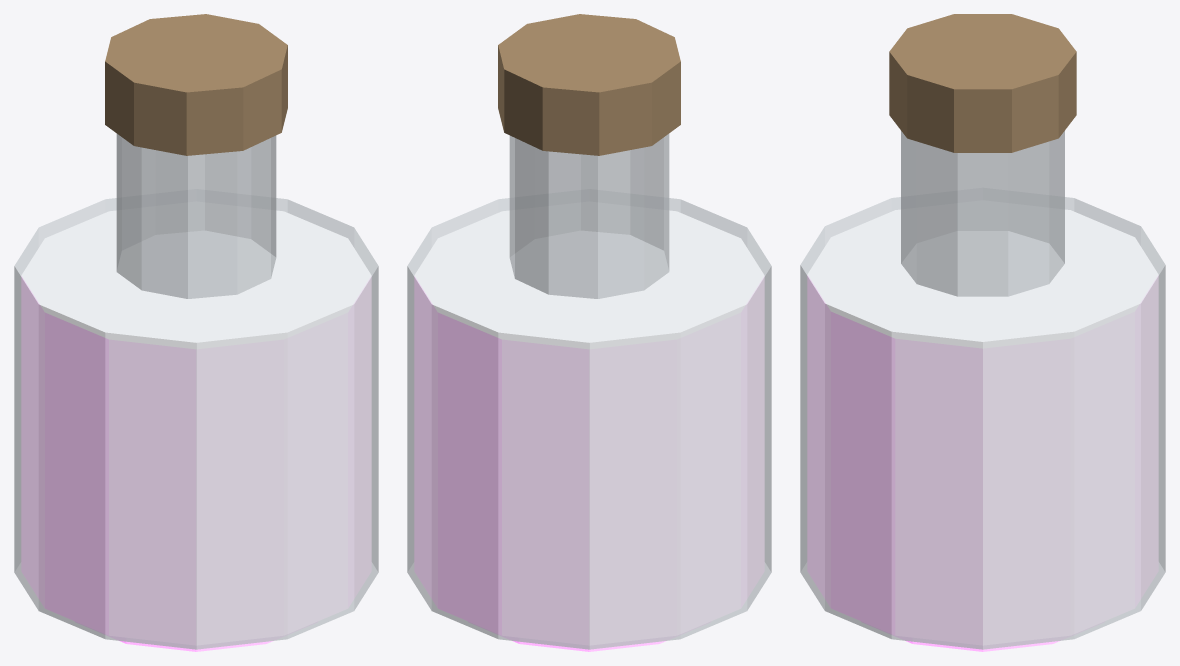
The model's file is rage.glb.
3 views of the same model, side by side, from view 1: azimuth 30°, elevation 25°; view 2: azimuth 150°, elevation 25°; view 3: azimuth 270°, elevation 25° (orthographic).
Parts seen in each view (by area): view 1: rage; view 2: rage; view 3: rage.
Part boxes in pixels (bbox=[...]): rage: bbox=[14, 14, 378, 651]; rage: bbox=[407, 14, 771, 651]; rage: bbox=[800, 14, 1165, 651].
Bounding box in the file's own units: 1.56 × 2.55 × 1.56.
